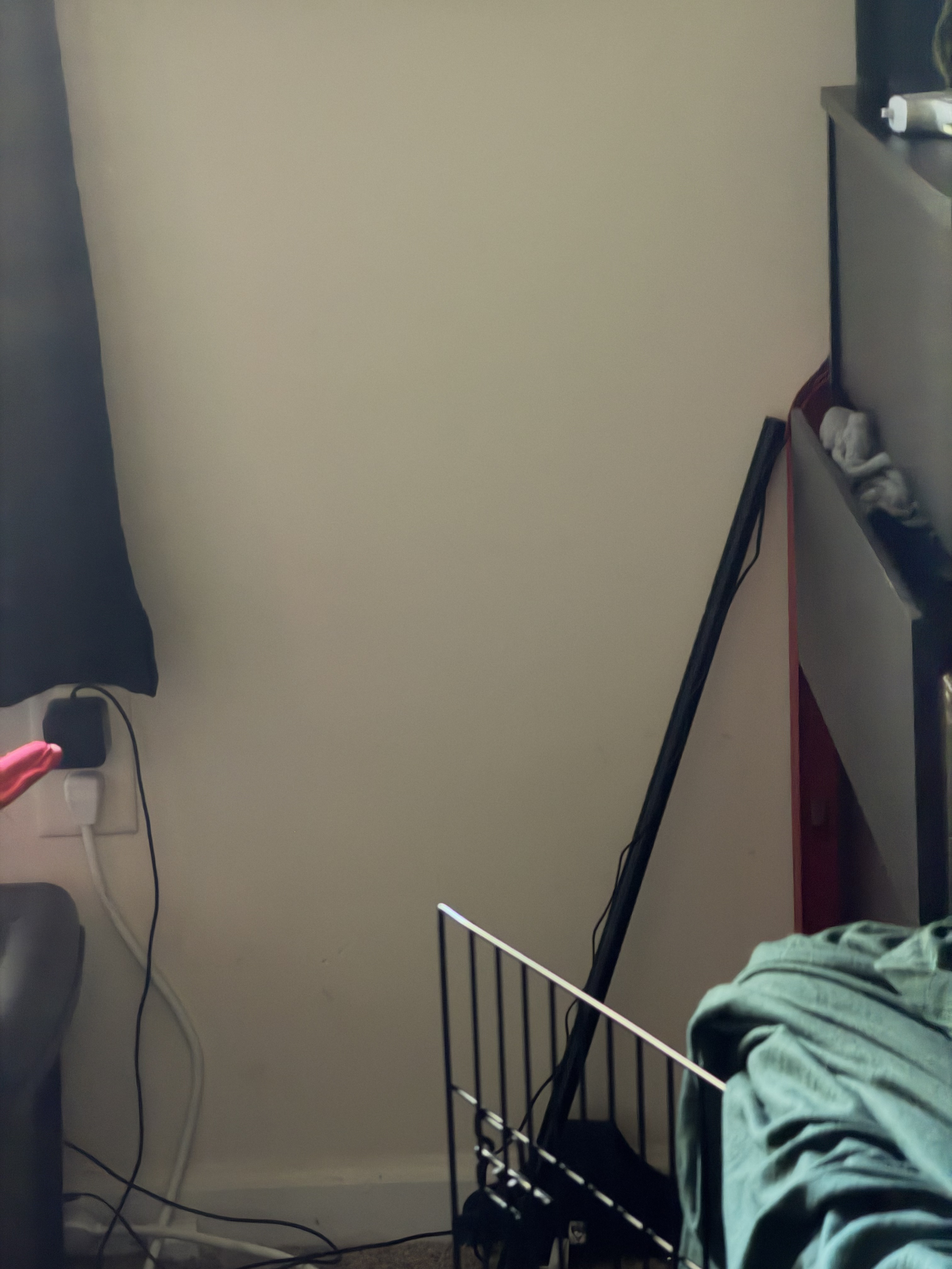outlet: (27, 678, 136, 841)
